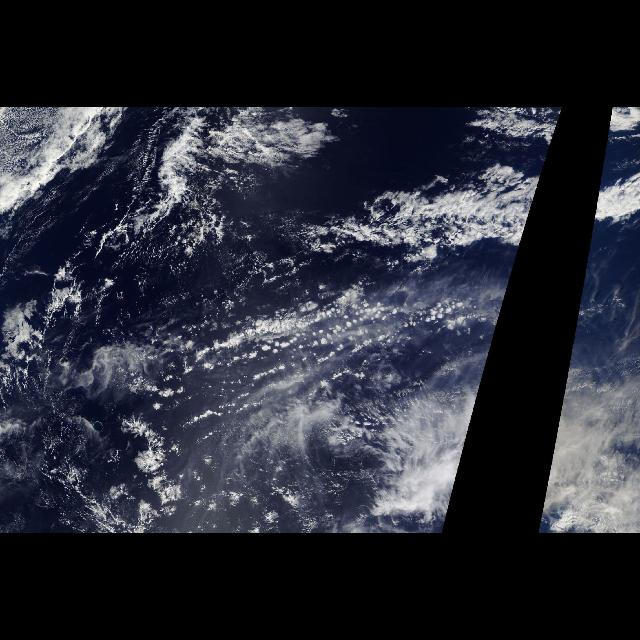Fish: (298, 156, 546, 264), (586, 156, 640, 264)
Gravel: (2, 108, 98, 174)
